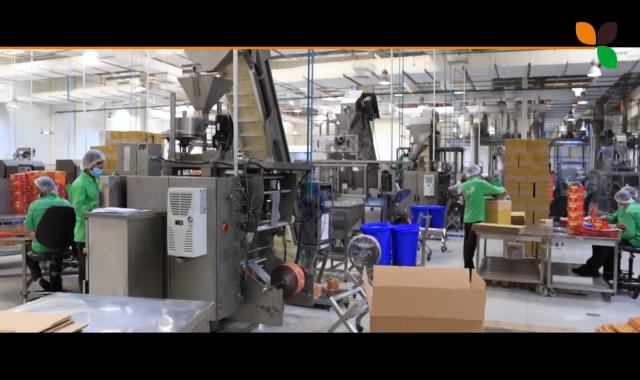hairnet: (80, 149, 104, 173), (34, 175, 55, 194), (465, 163, 480, 177), (616, 190, 632, 203)
